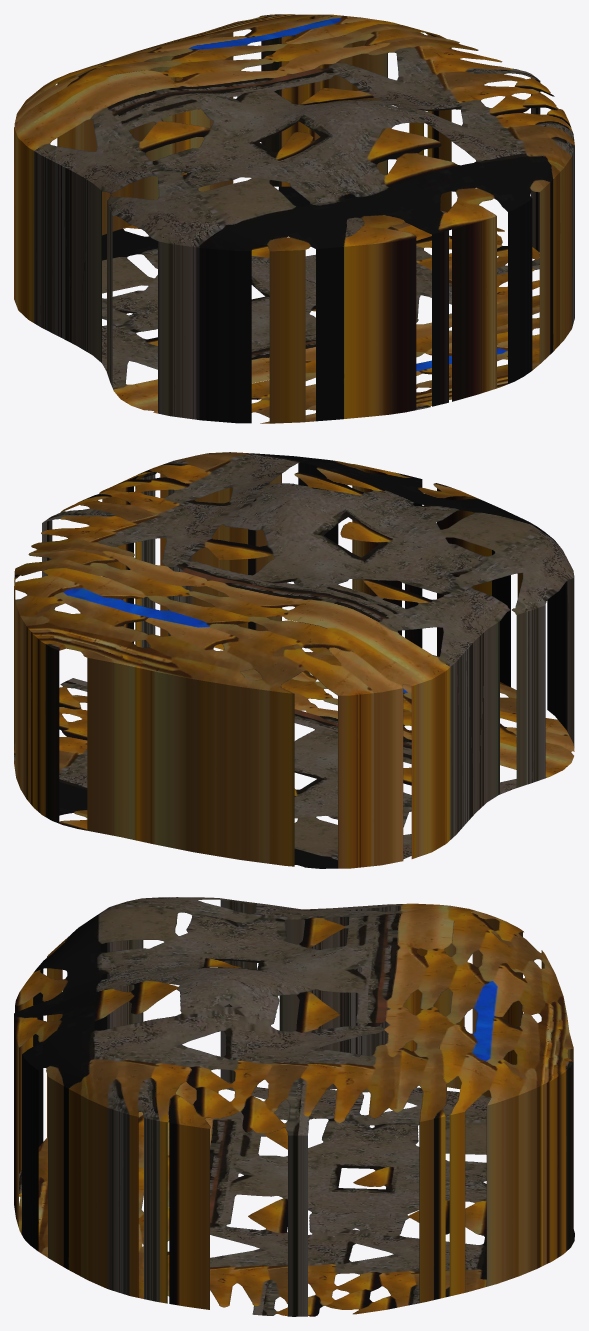
3 renders of one model, top to bottom at view 1: azimuth 30°, elevation 25°; view 2: azimuth 150°, elevation 25°; view 3: azimuth 270°, elevation 25°, orthographic. The views are drawn at different scales.
Parts seen in each view (by area): view 1: SM_Vault_Shock_Ray_01_LOD0; view 2: SM_Vault_Shock_Ray_01_LOD0; view 3: SM_Vault_Shock_Ray_01_LOD0.
Boxes of the visible parts, <box> form: SM_Vault_Shock_Ray_01_LOD0: <box>14,14,574,423</box>; SM_Vault_Shock_Ray_01_LOD0: <box>14,452,574,868</box>; SM_Vault_Shock_Ray_01_LOD0: <box>14,897,574,1316</box>.
Bounding box in the file's own units: 2.82 × 1.28 × 2.81.
